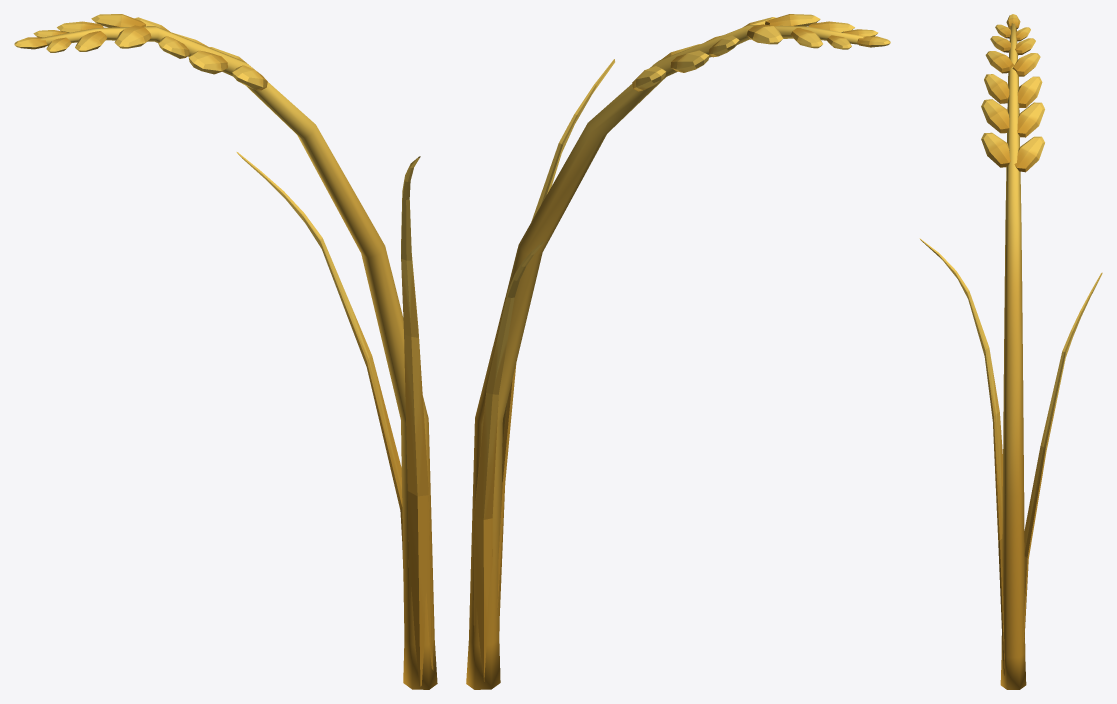
The model's file is grain_02.glb.
3 renders of one model, left to right at view 1: azimuth 30°, elevation 25°; view 2: azimuth 150°, elevation 25°; view 3: azimuth 270°, elevation 25°, orthographic. The views are drawn at different scales.
Parts seen in each view (by area): view 1: Grain_02; view 2: Grain_02; view 3: Grain_02.
Boxes of the visible parts, x1,y1,x2,y2 form: Grain_02: (14,14,437,689); Grain_02: (466,14,890,689); Grain_02: (919,14,1102,689).
Size of the model in its own units: 2.29 by 3.87 by 1.21.
1 material, 1 textured.
